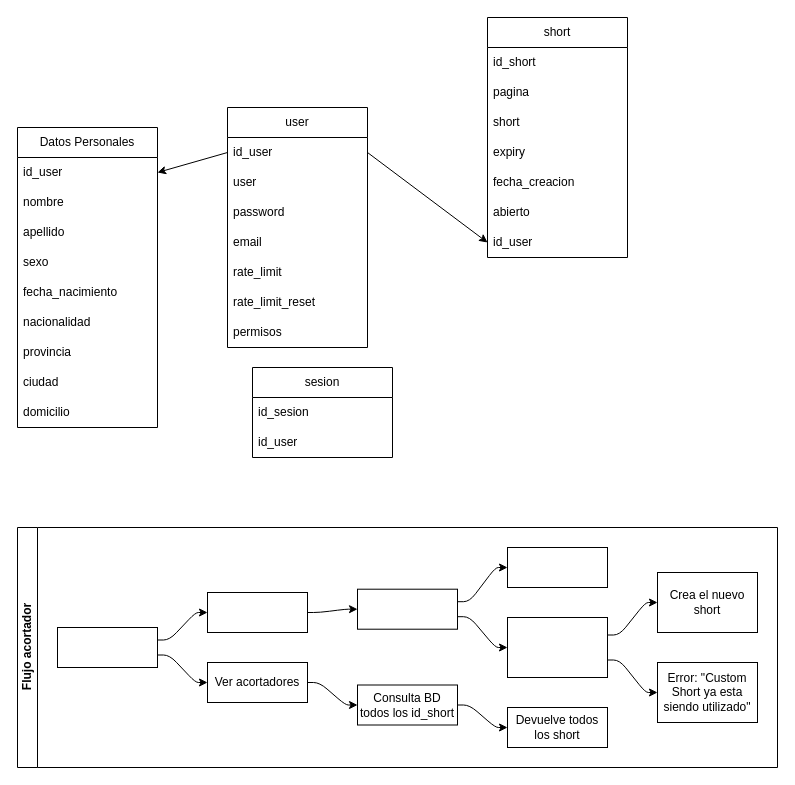
Image size: 795x785. Some labels were removed from this diagram. The shapes that lost their labels are listed below. From the top down, each one's box as (x1, y1, x2, y2) in pixels, then its label:
(506, 546, 608, 588): Crea nuevo short
(206, 592, 308, 632): Solicitar acortador
(356, 588, 458, 629): ¿Especifico CustomShort
(56, 626, 158, 668): Login
(506, 616, 608, 678): Revisa si el custom short esta creado
